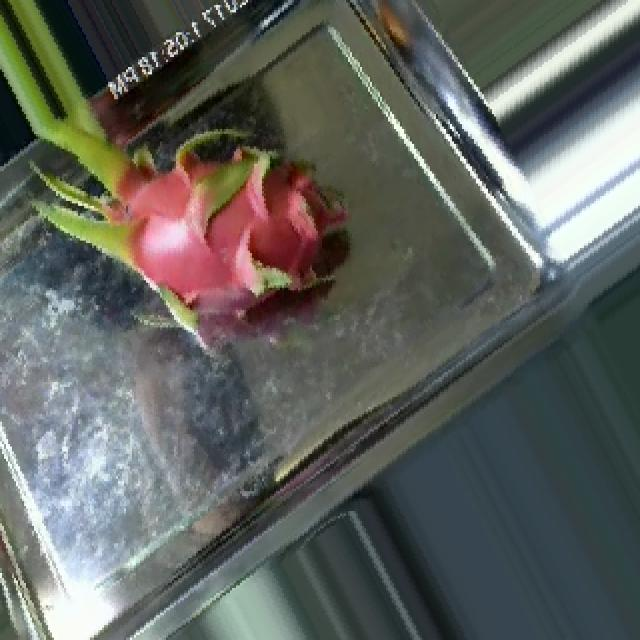fruit: (0, 5, 400, 414)
